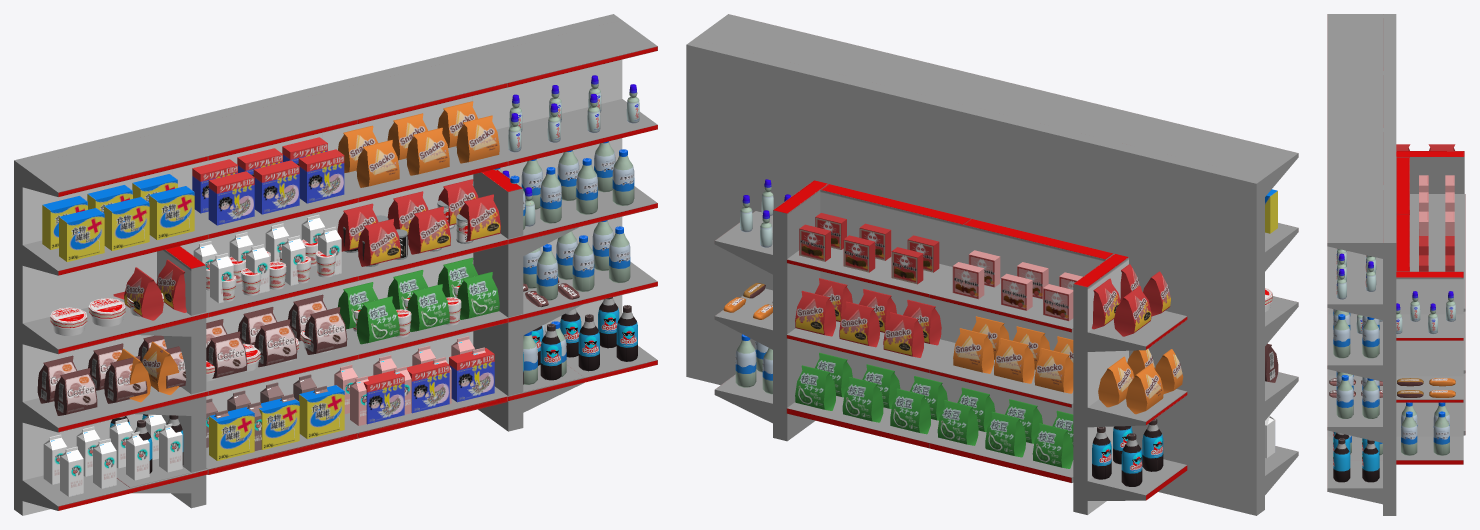
The model's file is Gia Ban Hang.fbx.
3 renders of one model, left to right at view 1: azimuth 30°, elevation 25°; view 2: azimuth 150°, elevation 25°; view 3: azimuth 270°, elevation 25°, orthographic. The views are drawn at different scales.
Parts seen in each view (by area): view 1: Gia_01, Gia_02, T1_WholeMilk, T4_Cereal2, T4_Cereal4, T4_Cereal5, T4_Vitamin, T4_Vitamin2, T4_Vitamin4, polySurface107, polySurface134, polySurface75 (+61 smaller); view 2: Gia_01, Gia_02, polySurface6, polySurface65, polySurface102, polySurface126, polySurface10, polySurface4, polySurface62, polySurface76, polySurface74, polySurface92 (+33 smaller); view 3: Gia_01, Gia_02, T1_Cola6, T3_Water2, T2_Water4, T1_Cola7, T3_Water4, polySurface145, polySurface161, T2_Water5, T4_Drink6, T4_Drink2 (+22 smaller).
Boxes of the visible parts, x1,y1,x2,y2 form: Gia_01: [14, 14, 657, 515]; Gia_02: [116, 169, 584, 508]; T1_WholeMilk: [43, 414, 182, 496]; T4_Cereal2: [208, 171, 254, 225]; T4_Cereal4: [253, 160, 299, 214]; T4_Cereal5: [298, 149, 344, 203]; T4_Vitamin: [149, 186, 194, 240]; T4_Vitamin2: [104, 197, 149, 250]; T4_Vitamin4: [59, 208, 104, 261]; polySurface107: [299, 385, 344, 439]; polySurface134: [209, 407, 254, 460]; polySurface75: [449, 348, 494, 402]; Gia_01: [686, 14, 1298, 515]; Gia_02: [714, 180, 1187, 514]; polySurface6: [842, 377, 883, 422]; polySurface65: [937, 400, 978, 445]; polySurface102: [1032, 423, 1073, 468]; polySurface126: [883, 312, 924, 357]; polySurface10: [795, 365, 835, 410]; polySurface4: [890, 388, 930, 434]; polySurface62: [994, 338, 1034, 383]; polySurface76: [953, 328, 993, 373]; polySurface74: [839, 301, 880, 347]; polySurface92: [795, 290, 835, 336]; Gia_01: [1327, 14, 1396, 515]; Gia_02: [1328, 151, 1465, 464]; T1_Cola6: [1333, 438, 1350, 482]; T3_Water2: [1333, 314, 1350, 358]; T2_Water4: [1336, 375, 1353, 418]; T1_Cola7: [1362, 439, 1379, 482]; T3_Water4: [1362, 317, 1379, 358]; polySurface145: [1433, 411, 1449, 455]; polySurface161: [1401, 411, 1417, 455]; T2_Water5: [1362, 378, 1379, 418]; T4_Drink6: [1336, 269, 1346, 299]; T4_Drink2: [1365, 261, 1376, 291].
Bounding box in the file's own units: 40 × 22.27 × 10.2.
